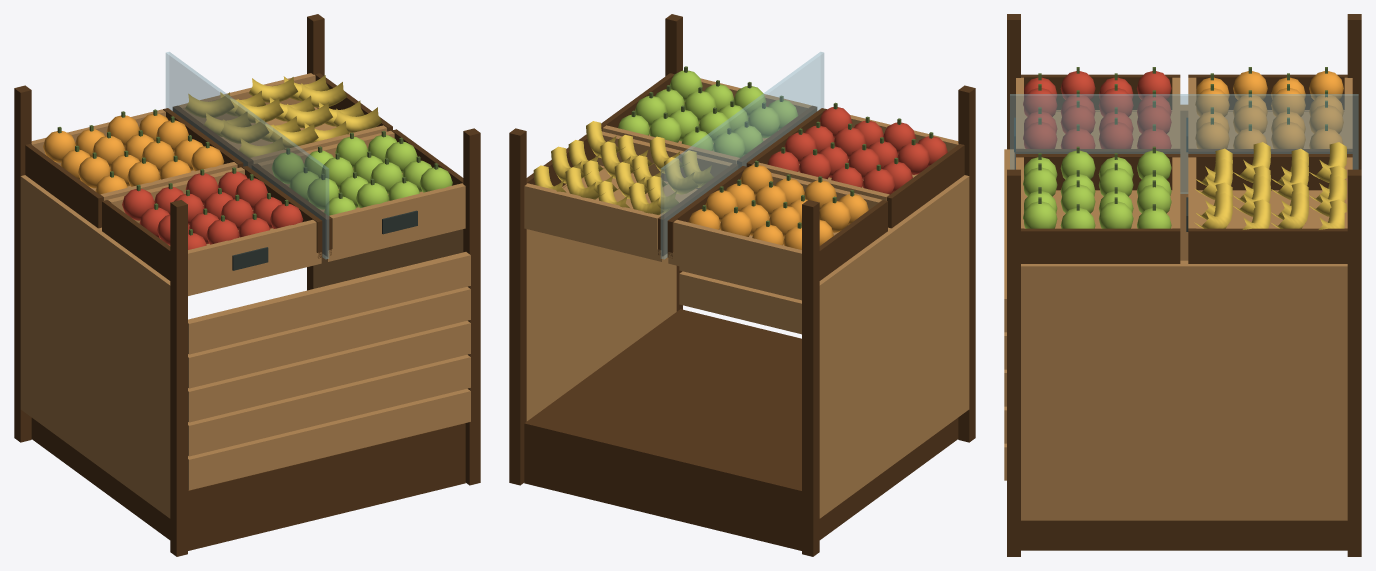
The model's file is shelf-fruit-island.glb.
3 views of the same model, side by side, from view 1: azimuth 30°, elevation 25°; view 2: azimuth 150°, elevation 25°; view 3: azimuth 270°, elevation 25° (orthographic). The views are drawn at different scales.
Visible parts, largest first — view 1: fruit-island-slat (×5), fruit-side (×2), fruit-plinth, fruit-bin-lip (×6), fruit-front-post (×2), fruit-centre-divider, fruit-bin-side (×7), stock-produce_f0a13a, stock-produce_a5c94e, stock-bananas_eac64e, stock-produce_c64732, fruit-end-post (×2) (+3 smaller); view 2: fruit-side (×2), fruit-plinth, fruit-bin-lip (×5), fruit-end-post (×2), fruit-centre-divider, fruit-bin-side (×7), stock-produce_c64732, stock-produce_a5c94e, stock-bananas_eac64e, stock-produce_f0a13a, fruit-island-slat (×2), fruit-front-post (×2) (+2 smaller); view 3: fruit-side (×2), fruit-centre-divider, fruit-bin-side (×8), fruit-plinth, stock-produce_a5c94e, stock-produce_c64732, stock-produce_f0a13a, stock-bananas_eac64e, fruit-end-post (×2), fruit-front-post (×2), fruit-bin-floor (×4), fruit-bin-lip (×6) (+2 smaller).
Part boxes in pixels (x1,y1,x2,y2): fruit-island-slat (×5): (188, 252, 470, 490); fruit-side (×2): (20, 107, 463, 518); fruit-plinth: (31, 418, 465, 550); fruit-bin-lip (×6): (100, 73, 465, 289); fruit-front-post (×2): (170, 128, 480, 556); fruit-centre-divider: (165, 52, 329, 259); fruit-bin-side (×7): (25, 105, 463, 280); stock-produce_f0a13a: (43, 113, 224, 194); stock-produce_a5c94e: (272, 135, 452, 215); stock-bananas_eac64e: (185, 75, 382, 157); stock-produce_c64732: (122, 171, 303, 249); fruit-end-post (×2): (14, 14, 324, 442); fruit-side (×2): (526, 175, 969, 518); fruit-plinth: (524, 309, 958, 550); fruit-bin-lip (×5): (524, 125, 889, 289); fruit-end-post (×2): (509, 128, 819, 556); fruit-centre-divider: (660, 52, 824, 259); fruit-bin-side (×7): (601, 73, 964, 280); stock-produce_c64732: (767, 107, 947, 194); stock-produce_a5c94e: (618, 70, 797, 157); stock-bananas_eac64e: (533, 121, 713, 214); stock-produce_f0a13a: (688, 165, 868, 249); fruit-island-slat (×2): (679, 266, 801, 334); fruit-front-post (×2): (665, 14, 975, 442); fruit-side (×2): (1021, 104, 1347, 520); fruit-centre-divider: (1010, 94, 1358, 193); fruit-bin-side (×8): (1016, 74, 1352, 263); fruit-plinth: (1021, 520, 1347, 550); stock-produce_a5c94e: (1023, 150, 1171, 228); stock-produce_c64732: (1023, 71, 1171, 148); stock-produce_f0a13a: (1195, 71, 1343, 148); stock-bananas_eac64e: (1194, 142, 1346, 229); fruit-end-post (×2): (1347, 14, 1361, 556); fruit-front-post (×2): (1007, 14, 1020, 556); fruit-bin-floor (×4): (1024, 111, 1344, 228); fruit-bin-lip (×6): (1016, 77, 1352, 228).
Size of the model in its own units: 0.955 by 1.05 by 0.8915.
